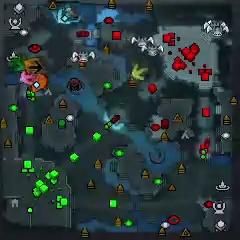p5: (31, 74, 49, 93)
x1: (21, 71, 36, 85)
x2: (131, 64, 147, 81)
x3: (56, 7, 76, 25)
x4: (10, 54, 25, 71)
x5: (25, 57, 40, 74)
x5Clone: (28, 59, 45, 74)
